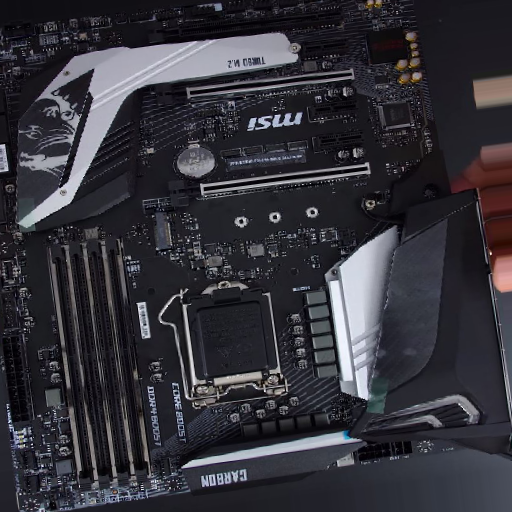CPU: (181, 278, 287, 395)
GPU: (166, 161, 372, 209), (155, 69, 355, 111)
MOTHERBOARD: (4, 11, 505, 501)
RAM: (48, 236, 157, 488)
SSD: (150, 207, 176, 252)
